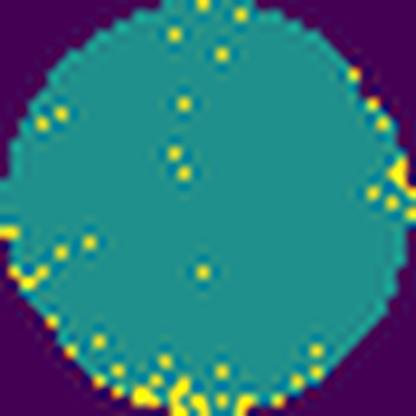Edge-Loc: (130, 372, 210, 415)
